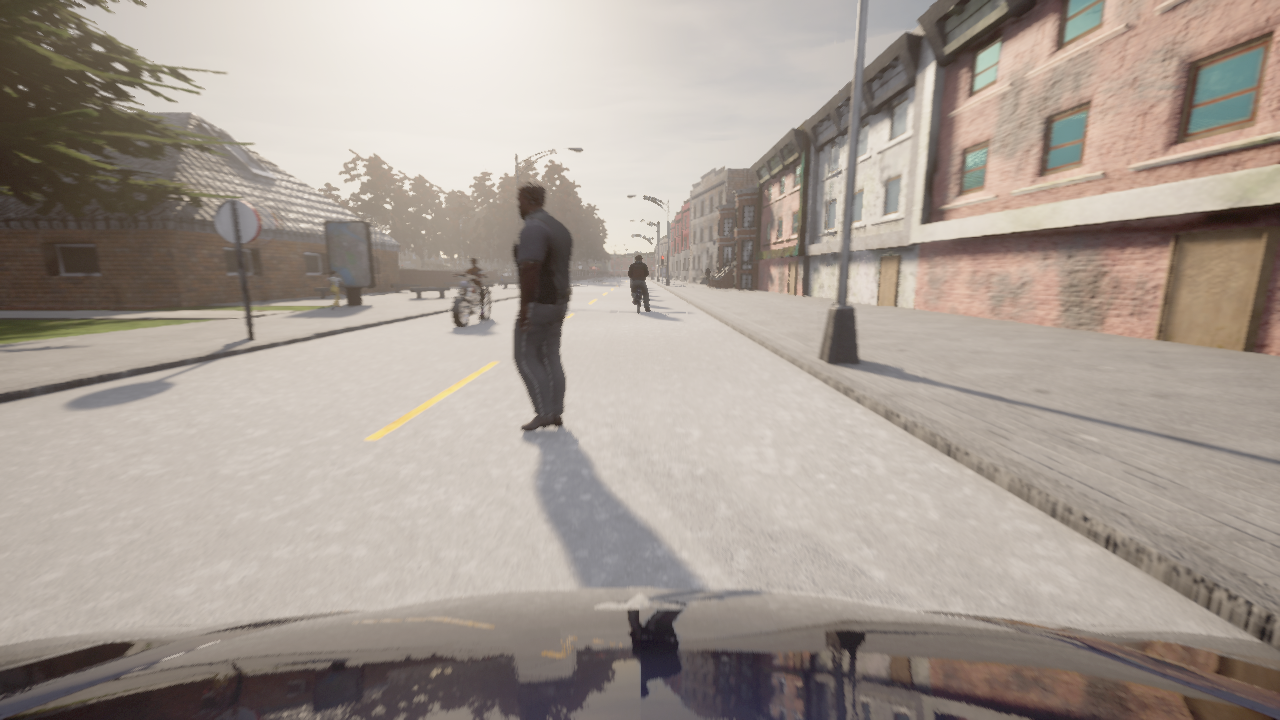cyclist: (0, 588, 1279, 719), (450, 270, 493, 327), (637, 286, 639, 312), (640, 288, 642, 298)
pedestrian: (511, 178, 573, 431), (323, 270, 343, 310), (703, 264, 710, 287), (499, 273, 503, 286)
